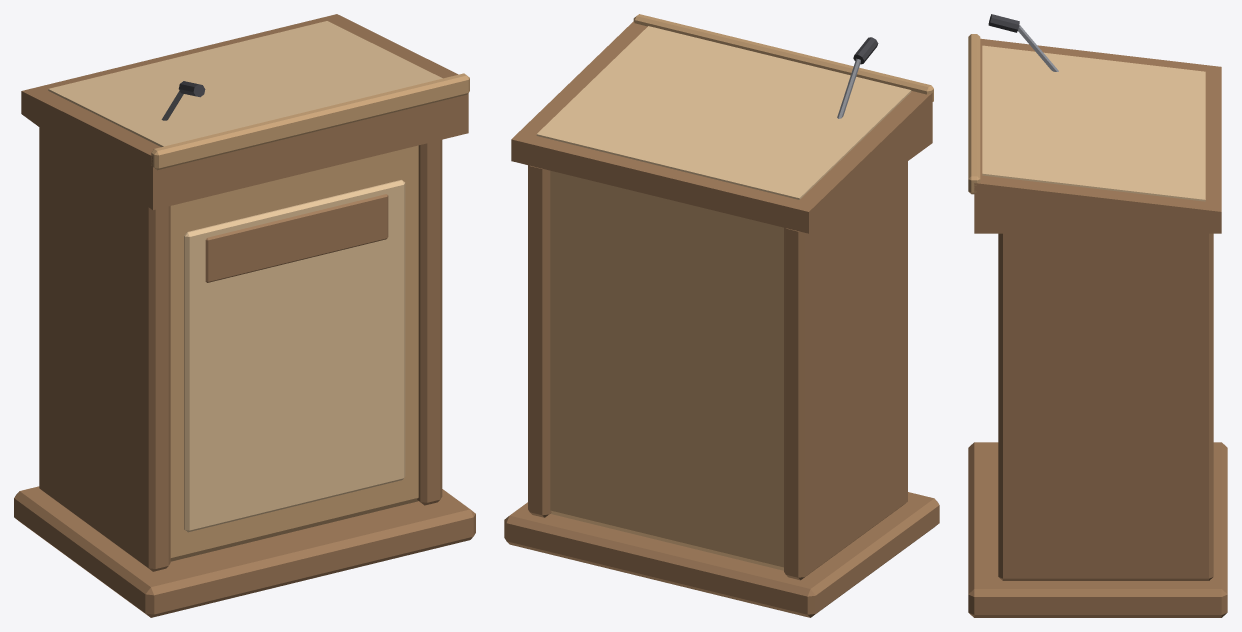
The model's file is prop_podium_01.glb.
3 views of the same model, side by side, from view 1: azimuth 30°, elevation 25°; view 2: azimuth 150°, elevation 25°; view 3: azimuth 270°, elevation 25° (orthographic). The views are drawn at different scales.
Parts seen in each view (by area): view 1: prop_podium_01_body; view 2: prop_podium_01_body; view 3: prop_podium_01_body.
Part boxes in pixels (x1,y1,x2,y2): prop_podium_01_body: (14, 14, 475, 617); prop_podium_01_body: (504, 14, 939, 617); prop_podium_01_body: (968, 14, 1227, 617).
Size of the model in its own units: 0.9 by 1.34 by 0.65.
